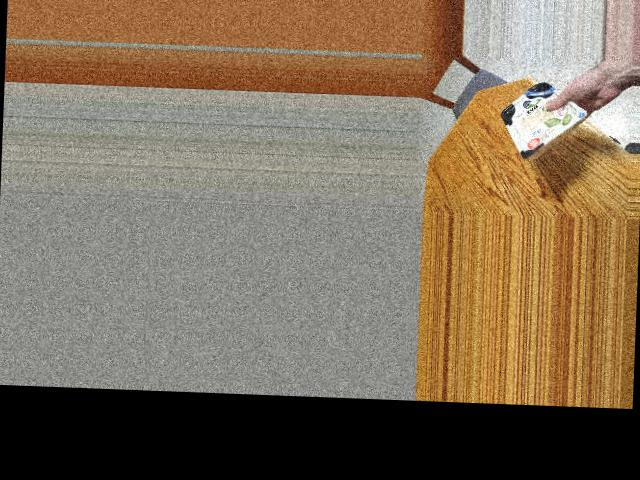cheese: (498, 88, 576, 156)
